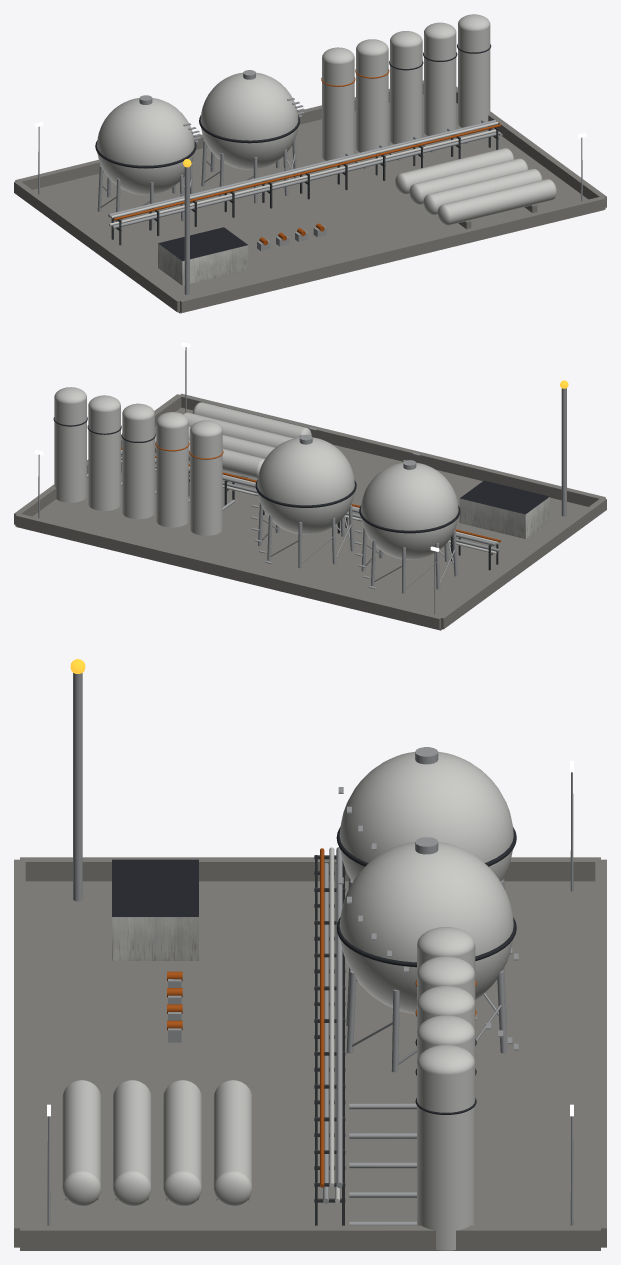
Rendered from EA10_tank_farm.glb.
3 renders of one model, top to bottom at view 1: azimuth 30°, elevation 25°; view 2: azimuth 150°, elevation 25°; view 3: azimuth 270°, elevation 25°, orthographic. The views are drawn at different scales.
Visible parts, largest first — view 1: farm_slab, sphere_leg, pump_house, rack_post; view 2: farm_slab, sphere_leg, pump_house, rack_post; view 3: farm_slab, sphere_leg, pump_house, rack_post.
Boxes of the visible parts, x1,y1,x2,y2 form: farm_slab: [14, 14, 606, 313]; sphere_leg: [38, 70, 582, 294]; pump_house: [158, 243, 248, 285]; rack_post: [111, 125, 498, 245]; farm_slab: [14, 387, 606, 630]; sphere_leg: [38, 347, 566, 614]; pump_house: [459, 497, 549, 538]; rack_post: [121, 455, 498, 570]; farm_slab: [14, 751, 606, 1250]; sphere_leg: [47, 673, 573, 1225]; pump_house: [112, 917, 198, 960]; rack_post: [314, 855, 345, 1225].
Size of the model in its own units: 91.55 by 27.7 by 61.2.
Materials: 6 (1 with a texture image).
